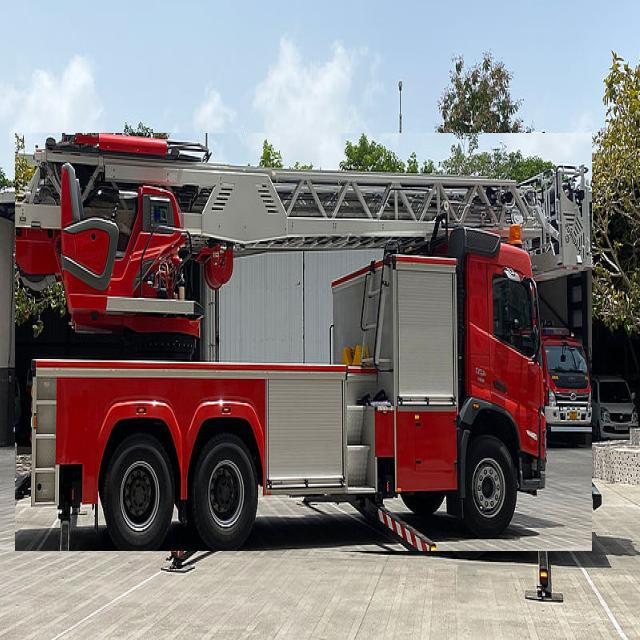emergency: (15, 133, 592, 551)
